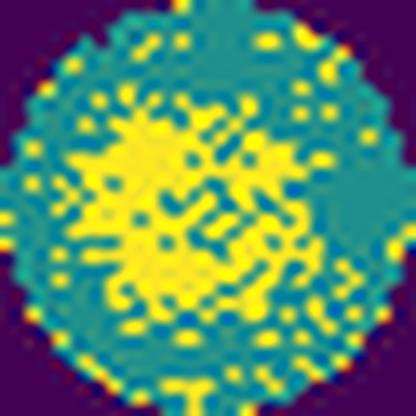Center: (44, 92, 319, 337)
